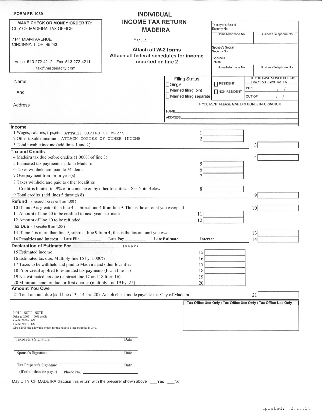checkbox: (149, 378, 157, 385), (167, 378, 175, 385), (213, 80, 219, 87), (213, 88, 219, 95), (165, 81, 171, 87), (165, 87, 171, 93), (165, 93, 171, 99)
textbox: (182, 304, 301, 332), (210, 19, 301, 33), (211, 42, 301, 56), (210, 52, 300, 66), (252, 30, 300, 46), (252, 64, 301, 78), (210, 63, 256, 77), (210, 31, 255, 45), (244, 83, 300, 93), (244, 91, 300, 101), (257, 140, 300, 150), (257, 234, 300, 244), (202, 134, 246, 143), (257, 153, 301, 162), (202, 184, 246, 193), (257, 191, 301, 200), (202, 209, 246, 218), (202, 215, 246, 224), (256, 228, 300, 237), (203, 248, 247, 257), (203, 254, 247, 263), (204, 260, 248, 269), (203, 266, 247, 275), (203, 272, 247, 281), (256, 290, 300, 299), (202, 128, 245, 137), (202, 159, 245, 168), (202, 165, 245, 174), (202, 171, 245, 180), (257, 203, 300, 212), (204, 278, 247, 287)
textline: (12, 77, 158, 84), (11, 88, 157, 95), (11, 100, 157, 107), (12, 344, 119, 352), (13, 331, 120, 338), (175, 108, 299, 114), (12, 357, 118, 364), (181, 114, 300, 120), (81, 368, 140, 375), (72, 242, 121, 249), (150, 35, 186, 44), (213, 234, 237, 242), (79, 234, 102, 242), (119, 344, 140, 352), (124, 235, 147, 242), (119, 332, 140, 339), (117, 357, 138, 364), (178, 234, 194, 242)
